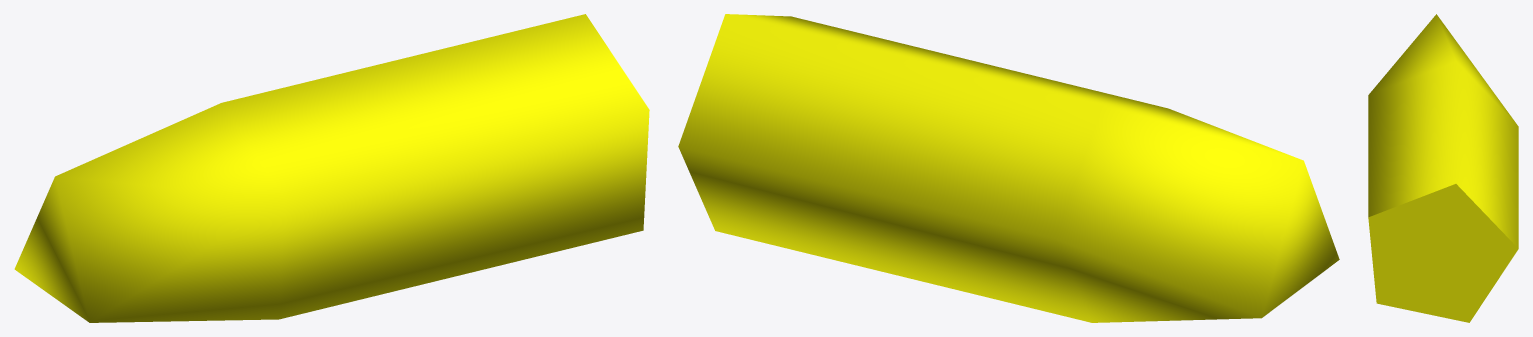
The model's file is shell_rifle.glb.
3 renders of one model, left to right at view 1: azimuth 30°, elevation 25°; view 2: azimuth 150°, elevation 25°; view 3: azimuth 270°, elevation 25°, orthographic. The views are drawn at different scales.
Parts seen in each view (by area): view 1: shell_rifle; view 2: shell_rifle; view 3: shell_rifle.
Part boxes in pixels (box(x1,y1,x2,y2)): shell_rifle: box(14, 14, 649, 322); shell_rifle: box(678, 14, 1339, 322); shell_rifle: box(1368, 14, 1518, 322).
Size of the model in its own units: 0.2389 by 0.0849 by 0.083.
1 material, 1 textured.
